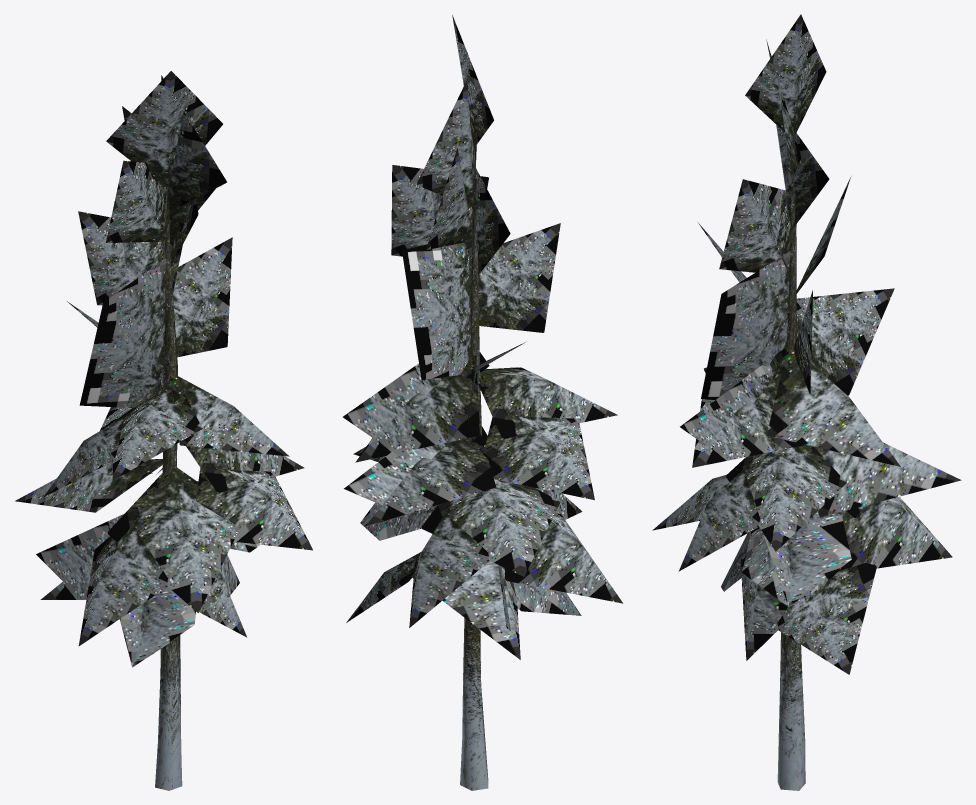
Rendered from treepineforestsnow05-transformed.glb.
3 views of the same model, side by side, from view 1: azimuth 30°, elevation 25°; view 2: azimuth 150°, elevation 25°; view 3: azimuth 270°, elevation 25° (orthographic). The views are drawn at different scales.
Parts seen in each view (by area): view 1: default; view 2: default; view 3: default.
Boxes of the visible parts, x1,y1,x2,y2 form: default: [15, 71, 312, 790]; default: [343, 15, 623, 790]; default: [652, 14, 961, 790].
Bounding box in the file's own units: 5.35 × 15.54 × 5.59.
Materials: 2 (2 with a texture image).
